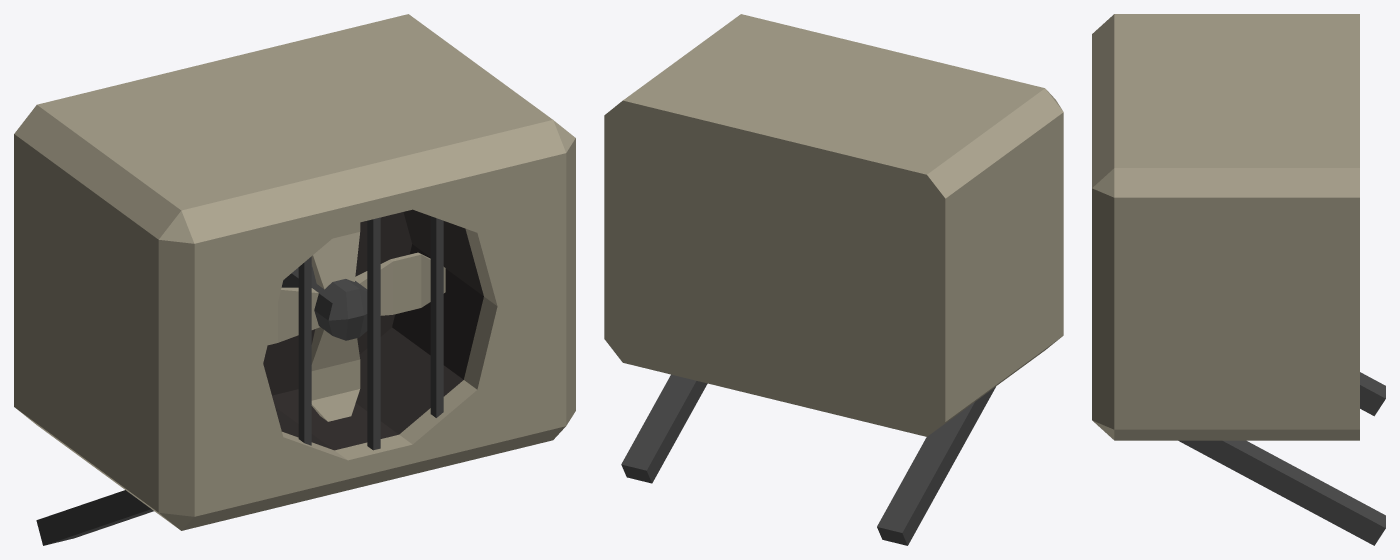
Rendered from AirCon.fbx.
3 views of the same model, side by side, from view 1: azimuth 30°, elevation 25°; view 2: azimuth 150°, elevation 25°; view 3: azimuth 270°, elevation 25° (orthographic). The views are drawn at different scales.
Visible parts, largest first — view 1: AirCon; view 2: AirCon; view 3: AirCon.
Boxes of the visible parts, box(x1,y1,x2,y2) form: AirCon: box(14, 14, 575, 545); AirCon: box(604, 14, 1063, 545); AirCon: box(1092, 14, 1385, 545).
Size of the model in its own units: 386 by 399 by 278.
